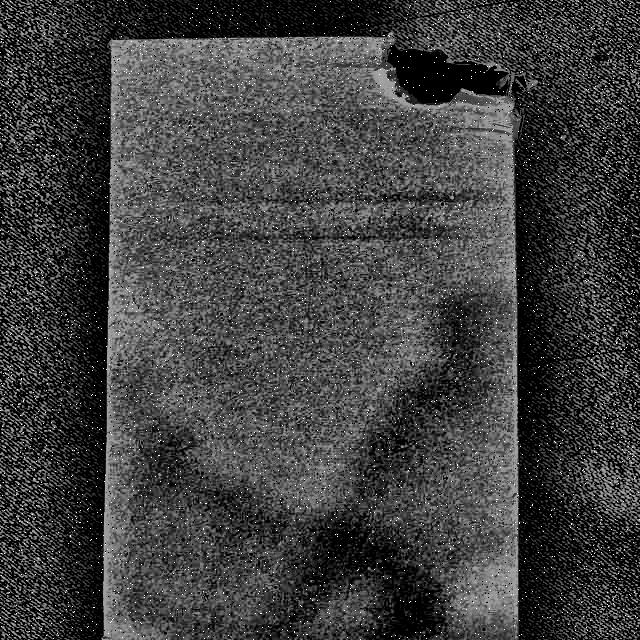box: (95, 28, 523, 639)
hole: (367, 39, 517, 117)
